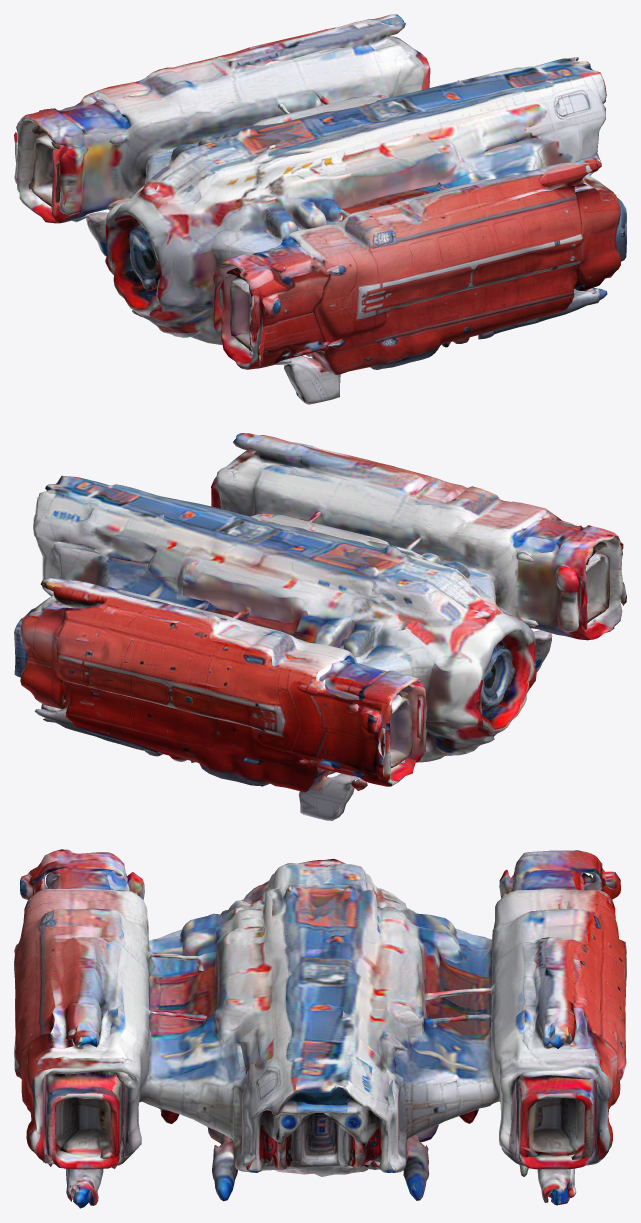
The model's file is Spaceship_4_1016112910.obj.
3 views of the same model, one above another, from view 1: azimuth 30°, elevation 25°; view 2: azimuth 150°, elevation 25°; view 3: azimuth 270°, elevation 25° (orthographic). The views are drawn at different scales.
Visible parts, largest first — view 1: Mesh_0; view 2: Mesh_0; view 3: Mesh_0.
Part boxes in pixels (x1,y1,x2,y2): Mesh_0: (14, 14, 626, 404); Mesh_0: (14, 433, 626, 820); Mesh_0: (14, 849, 626, 1208).
Size of the model in its own units: 1 by 0.4051 by 0.9564.
1 material, 1 textured.
